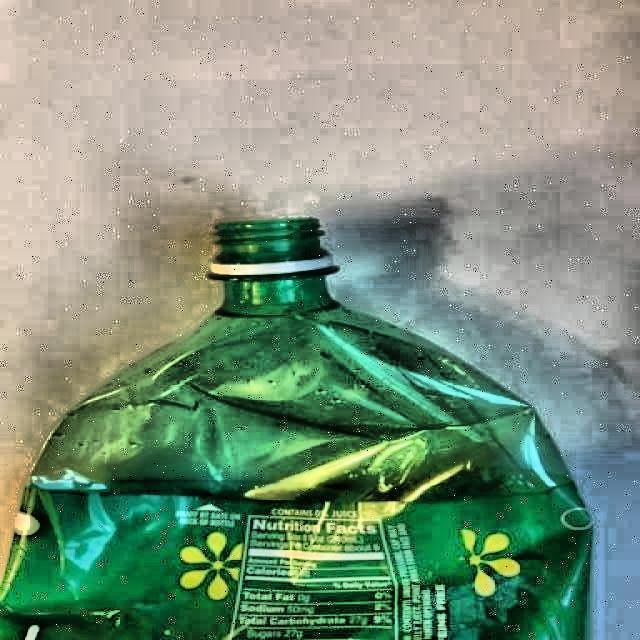plastic: (0, 219, 590, 639)
